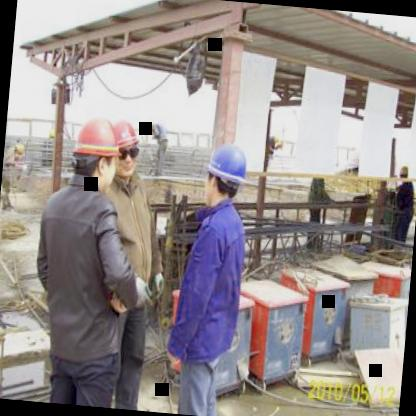helmet: (67, 112, 122, 198), (201, 138, 252, 216), (108, 120, 142, 180)
